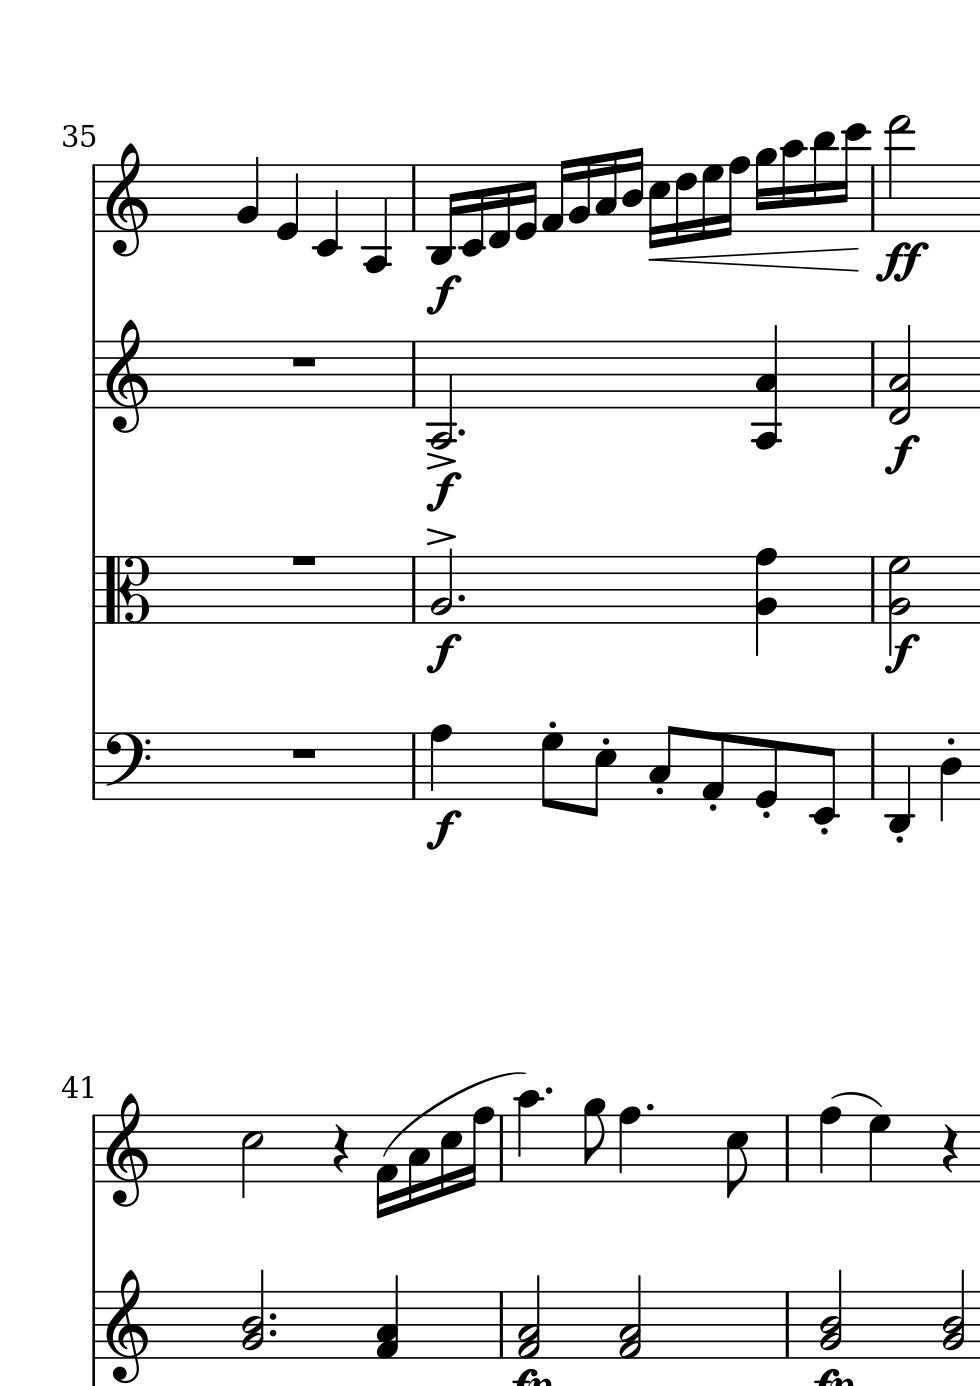1: (80, 1074, 95, 1102)
16_-1: (486, 162, 510, 250)
16_-2: (458, 163, 484, 258)
16_-3: (428, 163, 459, 267)
16_0: (513, 163, 537, 243)
16_1: (374, 1115, 399, 1220), (541, 159, 572, 235)
16_10: (778, 139, 805, 233)
16_11: (810, 129, 836, 234)
16_12: (836, 122, 868, 234)
16_2: (567, 154, 591, 233)
16_3: (406, 1115, 430, 1207), (593, 150, 618, 233)
16_4: (620, 147, 644, 233)
16_5: (437, 1113, 461, 1198), (647, 162, 670, 248)
16_6: (673, 162, 698, 243)
16_7: (699, 161, 723, 240)
16_8: (463, 1106, 494, 1188), (721, 156, 749, 236)
16_9: (753, 147, 777, 234)
2_-1_3: (887, 324, 913, 424)
2_-4: (426, 340, 456, 449)
2_13: (883, 115, 914, 234)
2_1_3: (618, 1275, 643, 1362), (517, 1277, 541, 1359)
2_2: (428, 546, 455, 624)
2_2_4: (819, 1268, 844, 1361), (942, 1270, 966, 1361), (242, 1270, 265, 1361)
2_2_7: (887, 555, 912, 656)
2_5: (239, 1113, 264, 1199)
3: (60, 122, 78, 150)
4: (60, 1073, 78, 1103)
4_-2: (312, 161, 342, 258)
4_-3: (883, 730, 913, 835)
4_-4: (358, 162, 392, 276)
4_-4_3: (751, 324, 784, 450)
4_0: (275, 162, 300, 243)
4_10: (514, 1088, 541, 1185)
4_1_3: (375, 1275, 400, 1361)
4_2: (235, 155, 261, 233)
4_2_8: (753, 547, 778, 659)
4_4: (938, 731, 963, 824)
4_7: (867, 1115, 891, 1185)
4_8: (427, 723, 453, 802), (817, 1105, 841, 1185), (616, 1105, 640, 1185)
5: (78, 122, 97, 150)
8_-2: (808, 731, 839, 827)
8_0: (751, 731, 778, 811)
8_1: (699, 730, 727, 804)
8_3: (647, 724, 679, 801)
8_5: (584, 731, 618, 820), (724, 1113, 750, 1200)
8_7: (539, 730, 564, 811)
8_9: (581, 1096, 607, 1185)
Accent_above: (424, 525, 458, 547), (423, 451, 458, 470)
Cclef: (103, 554, 152, 625)
Crescendo_hairpin: (651, 247, 861, 274)
Fclef: (102, 730, 151, 803)
Gclef: (103, 316, 150, 433), (104, 1268, 151, 1385), (104, 141, 148, 258), (104, 1092, 148, 1208)
Rests1: (288, 353, 319, 371), (288, 551, 319, 569), (288, 745, 320, 762)
Rests4: (331, 1122, 351, 1175), (939, 1122, 959, 1175)
Single_barline: (492, 1115, 510, 1183), (85, 556, 103, 624), (778, 1115, 795, 1180), (86, 1291, 102, 1359), (780, 1291, 795, 1358), (406, 343, 422, 408), (865, 557, 881, 622), (406, 733, 422, 799), (865, 164, 880, 233), (86, 1115, 101, 1183), (86, 165, 101, 233), (405, 165, 420, 233), (494, 1291, 509, 1358), (86, 733, 101, 800), (865, 343, 880, 408), (406, 557, 421, 622), (87, 341, 101, 409), (865, 734, 879, 799)
Slur: (829, 1090, 883, 1109)
dot: (455, 426, 467, 439), (643, 1102, 655, 1113), (266, 1311, 278, 1323), (266, 1327, 278, 1339), (542, 1085, 554, 1096), (455, 592, 466, 604)
f: (422, 630, 462, 674), (423, 471, 462, 512), (881, 434, 920, 476), (423, 808, 461, 850), (425, 273, 462, 315), (883, 634, 921, 674)
ff: (875, 241, 929, 287)
